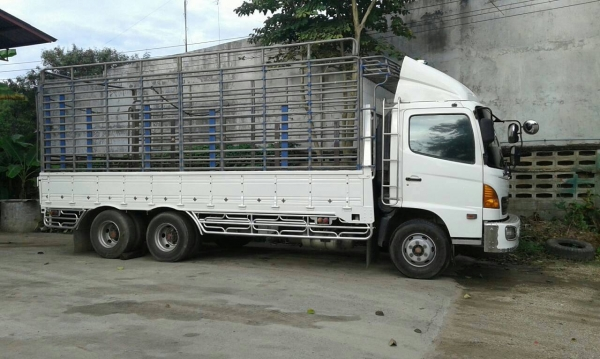truck: (32, 51, 520, 280)
